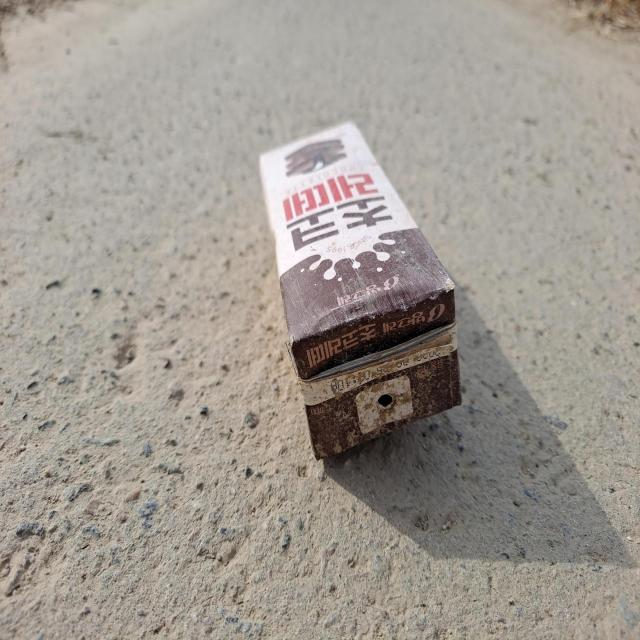paperpack: (260, 121, 462, 458)
